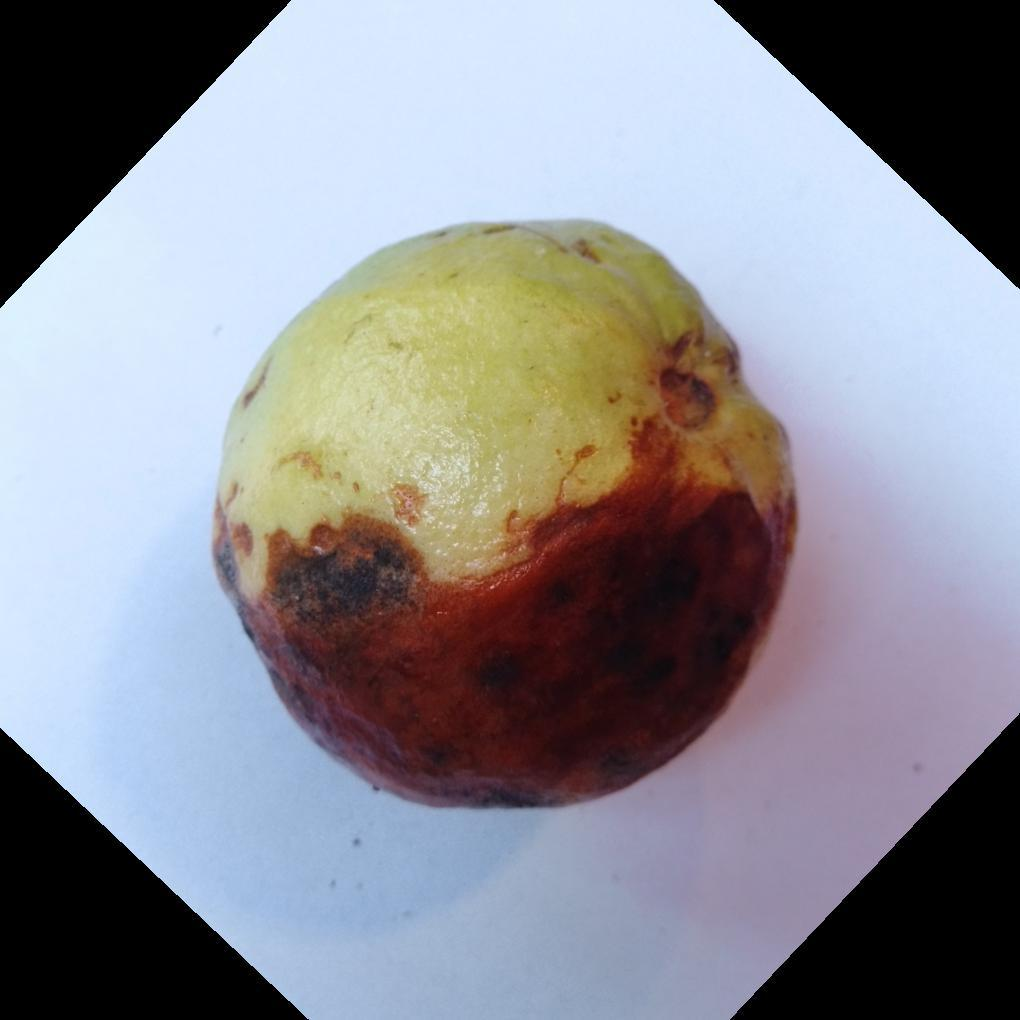FreshOrange: (208, 220, 800, 814)
